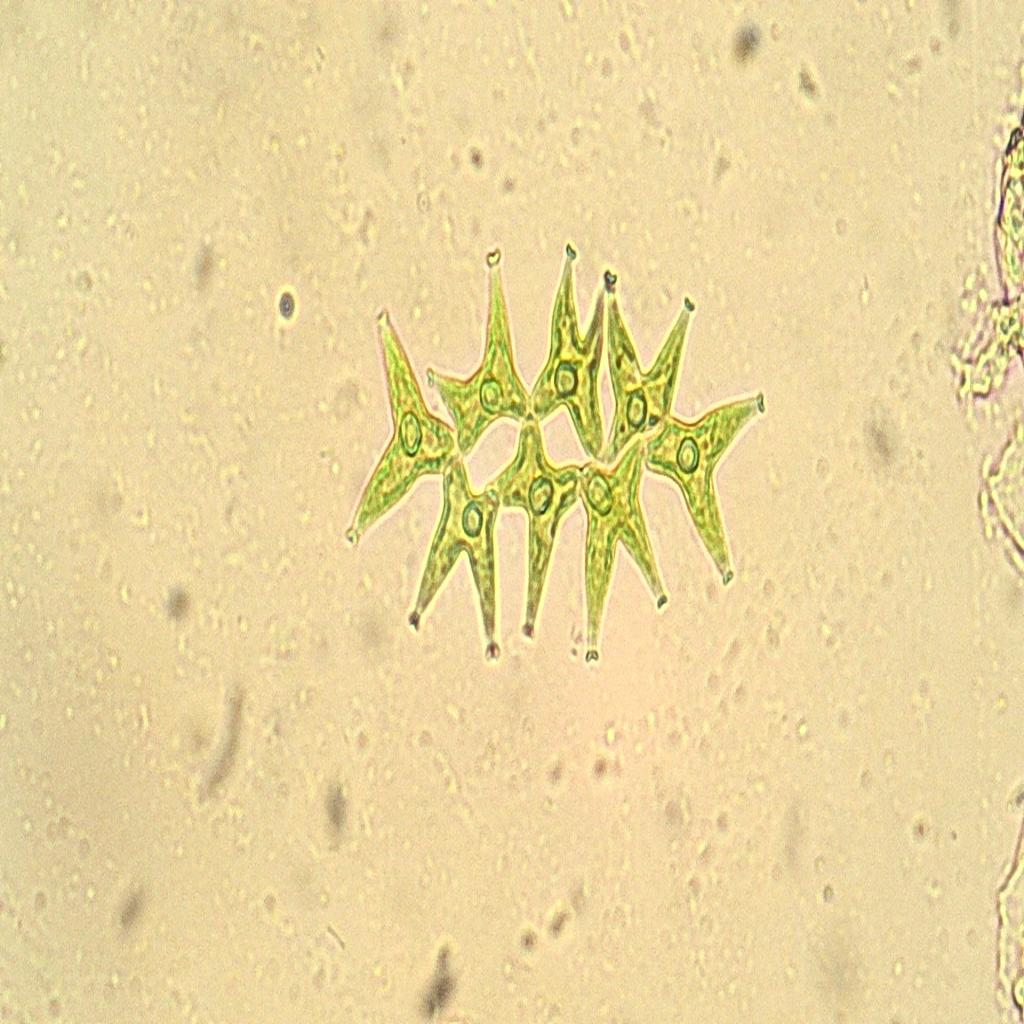Pediastrum_CFI: (342, 203, 772, 689)
